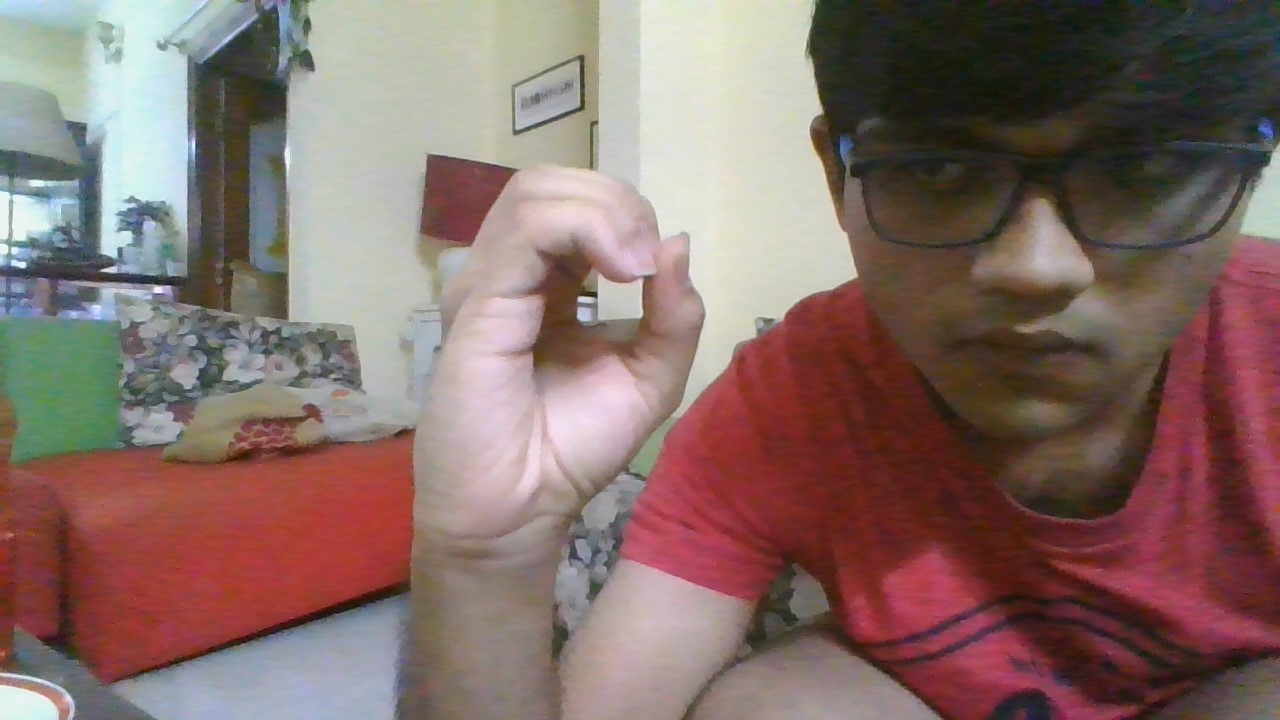o: (406, 159, 710, 537)
